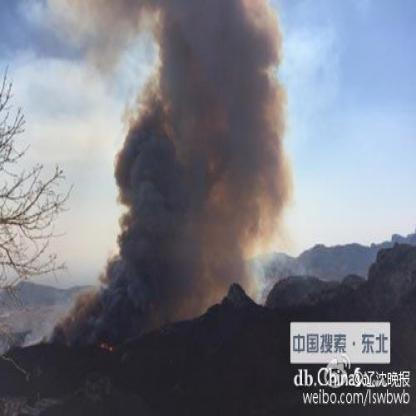smoke: (121, 130, 278, 186), (118, 191, 272, 247), (150, 6, 274, 64), (154, 69, 278, 124), (110, 252, 224, 290), (61, 304, 152, 340), (66, 1, 140, 37)
